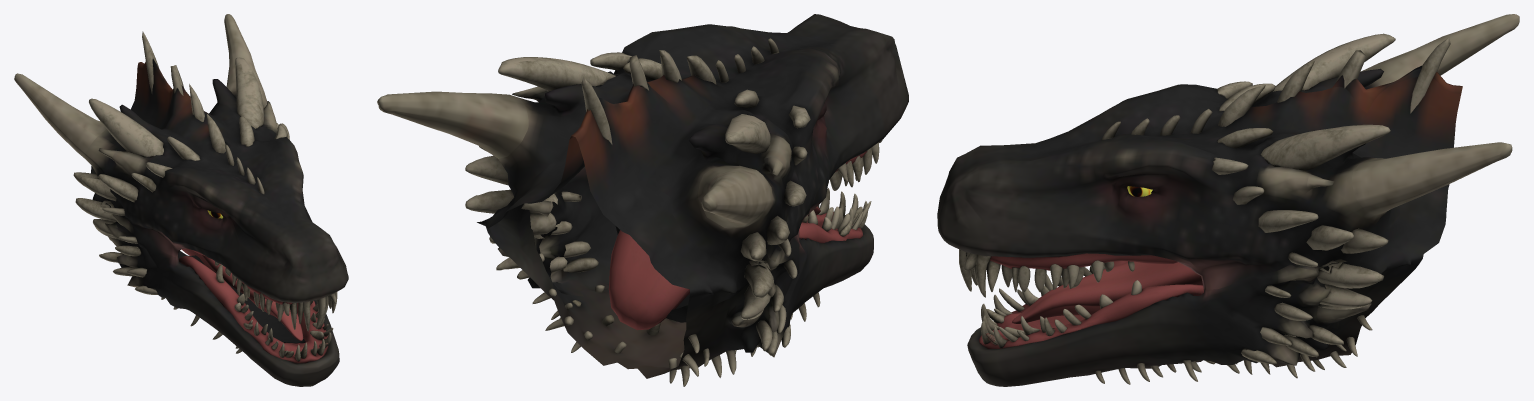
File: dragon_00007.obj
The picture shows the model from 3 angles, left to right: view 1: azimuth 30°, elevation 25°; view 2: azimuth 150°, elevation 25°; view 3: azimuth 270°, elevation 25°; orthographic projection. The views are drawn at different scales.
Visible parts, largest first — view 1: Dragon_Untitled; view 2: Dragon_Untitled; view 3: Dragon_Untitled.
Boxes of the visible parts, left/top/right/bottom form: Dragon_Untitled: left=14, top=14, right=348, bottom=386; Dragon_Untitled: left=377, top=14, right=908, bottom=386; Dragon_Untitled: left=937, top=14, right=1519, bottom=386.
Bounding box in the file's own units: 2.72 × 2.89 × 4.46.
